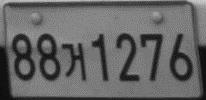1: (90, 32, 109, 81)
2: (115, 32, 140, 82)
6: (169, 32, 193, 81)
7: (138, 33, 163, 81)
8: (36, 32, 61, 81), (11, 33, 36, 80)
거: (61, 42, 86, 80)
